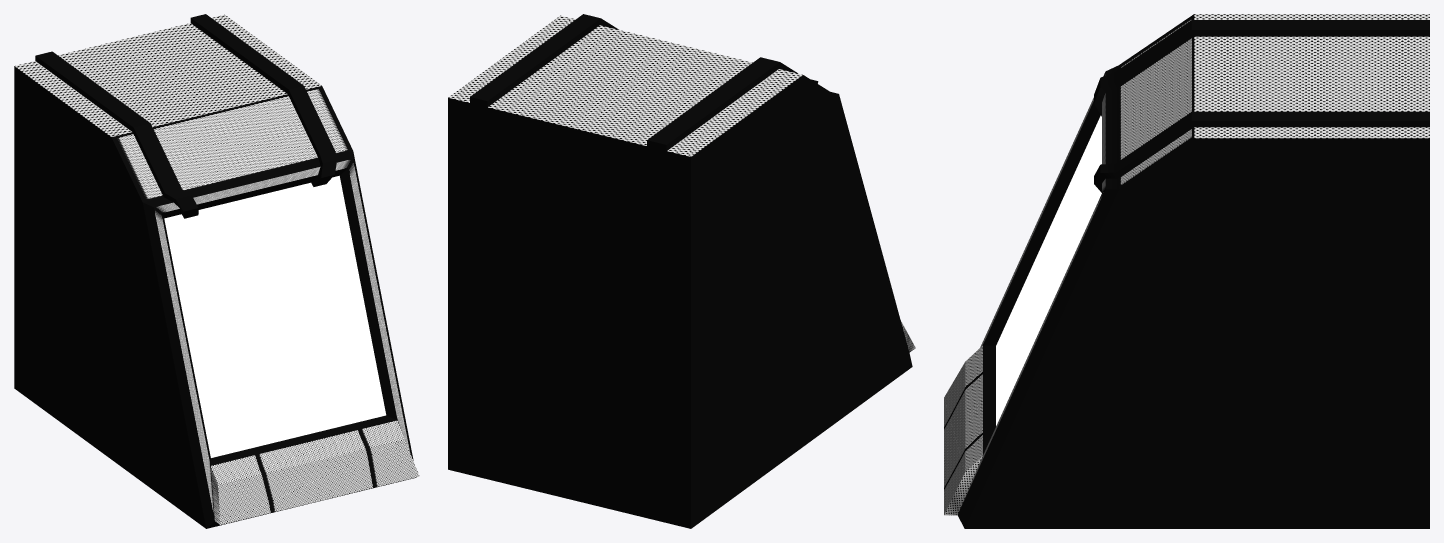
Rendered from light08.glb.
3 views of the same model, side by side, from view 1: azimuth 30°, elevation 25°; view 2: azimuth 150°, elevation 25°; view 3: azimuth 270°, elevation 25° (orthographic). The views are drawn at different scales.
Visible parts, largest first — view 1: Light08; view 2: Light08; view 3: Light08.
Part boxes in pixels (bbox=[...]): Light08: bbox=[14, 14, 419, 528]; Light08: bbox=[448, 14, 915, 528]; Light08: bbox=[944, 14, 1429, 528].
Bounding box in the file's own units: 0.671 × 0.9976 × 1.11.
Materials: 3 (1 with a texture image).
